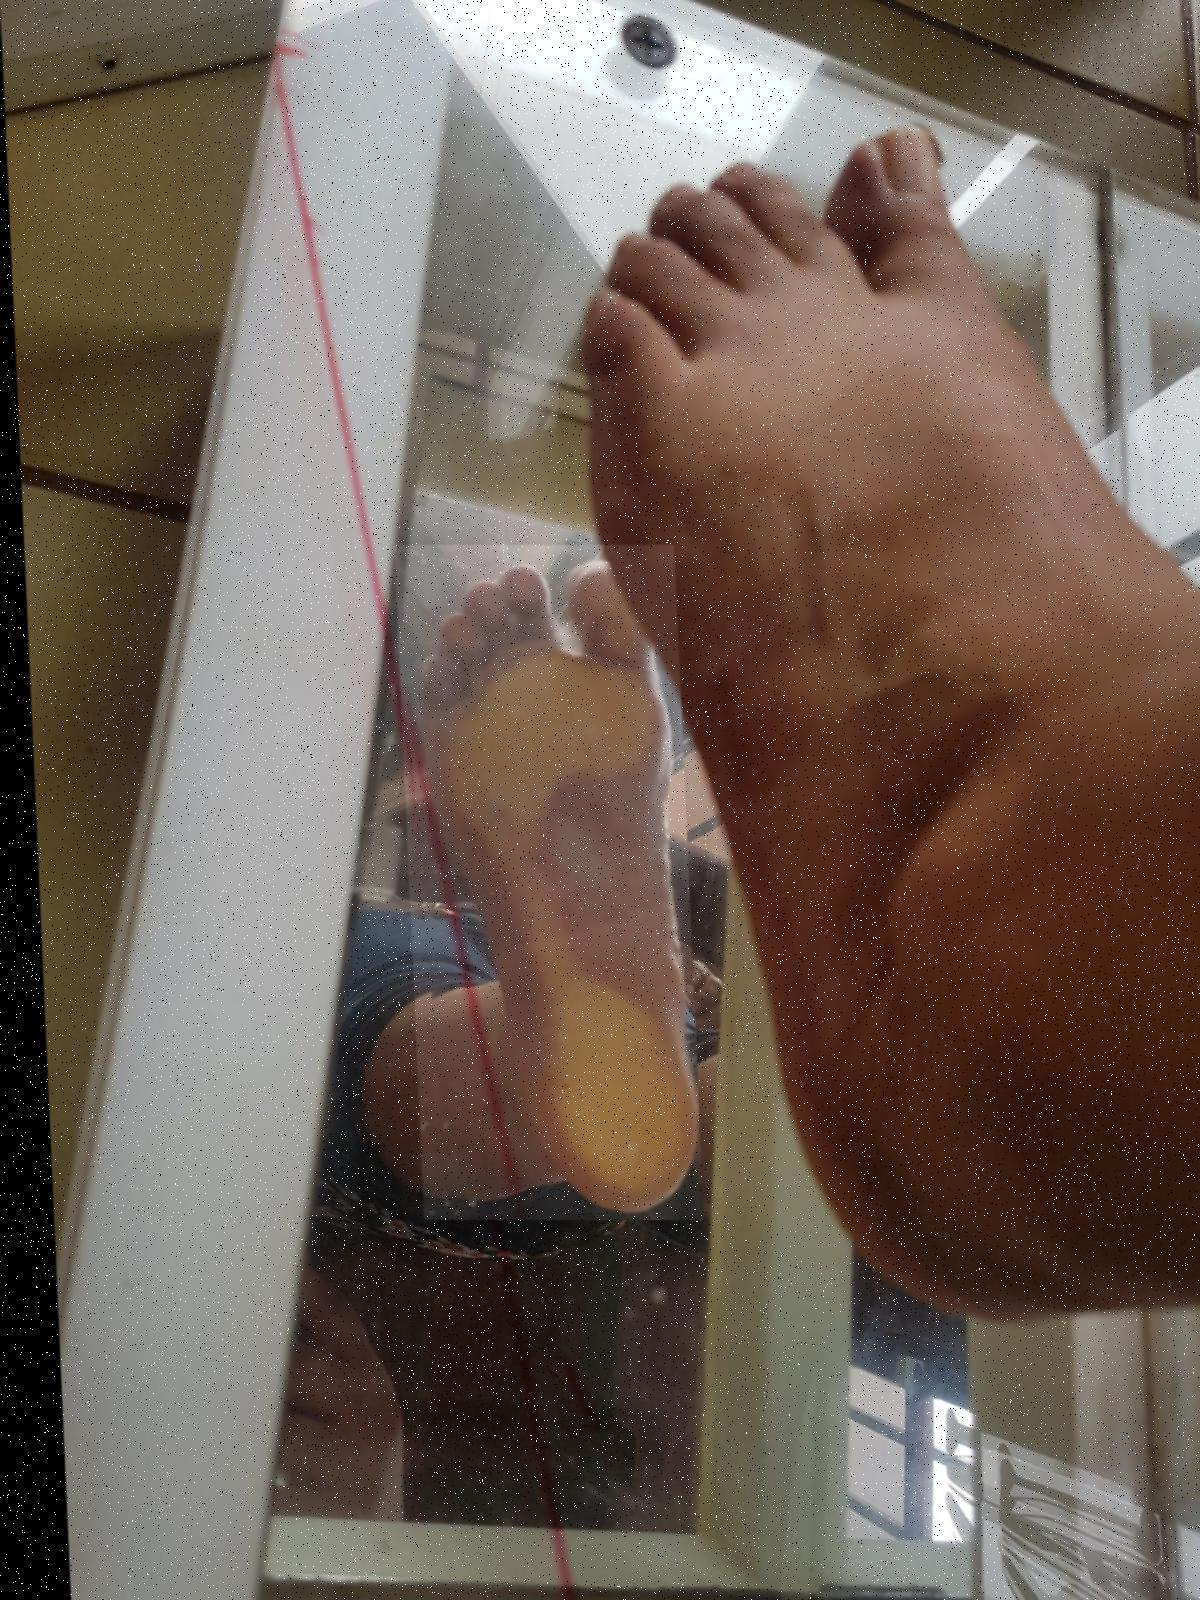Present: (389, 546, 692, 1220)
